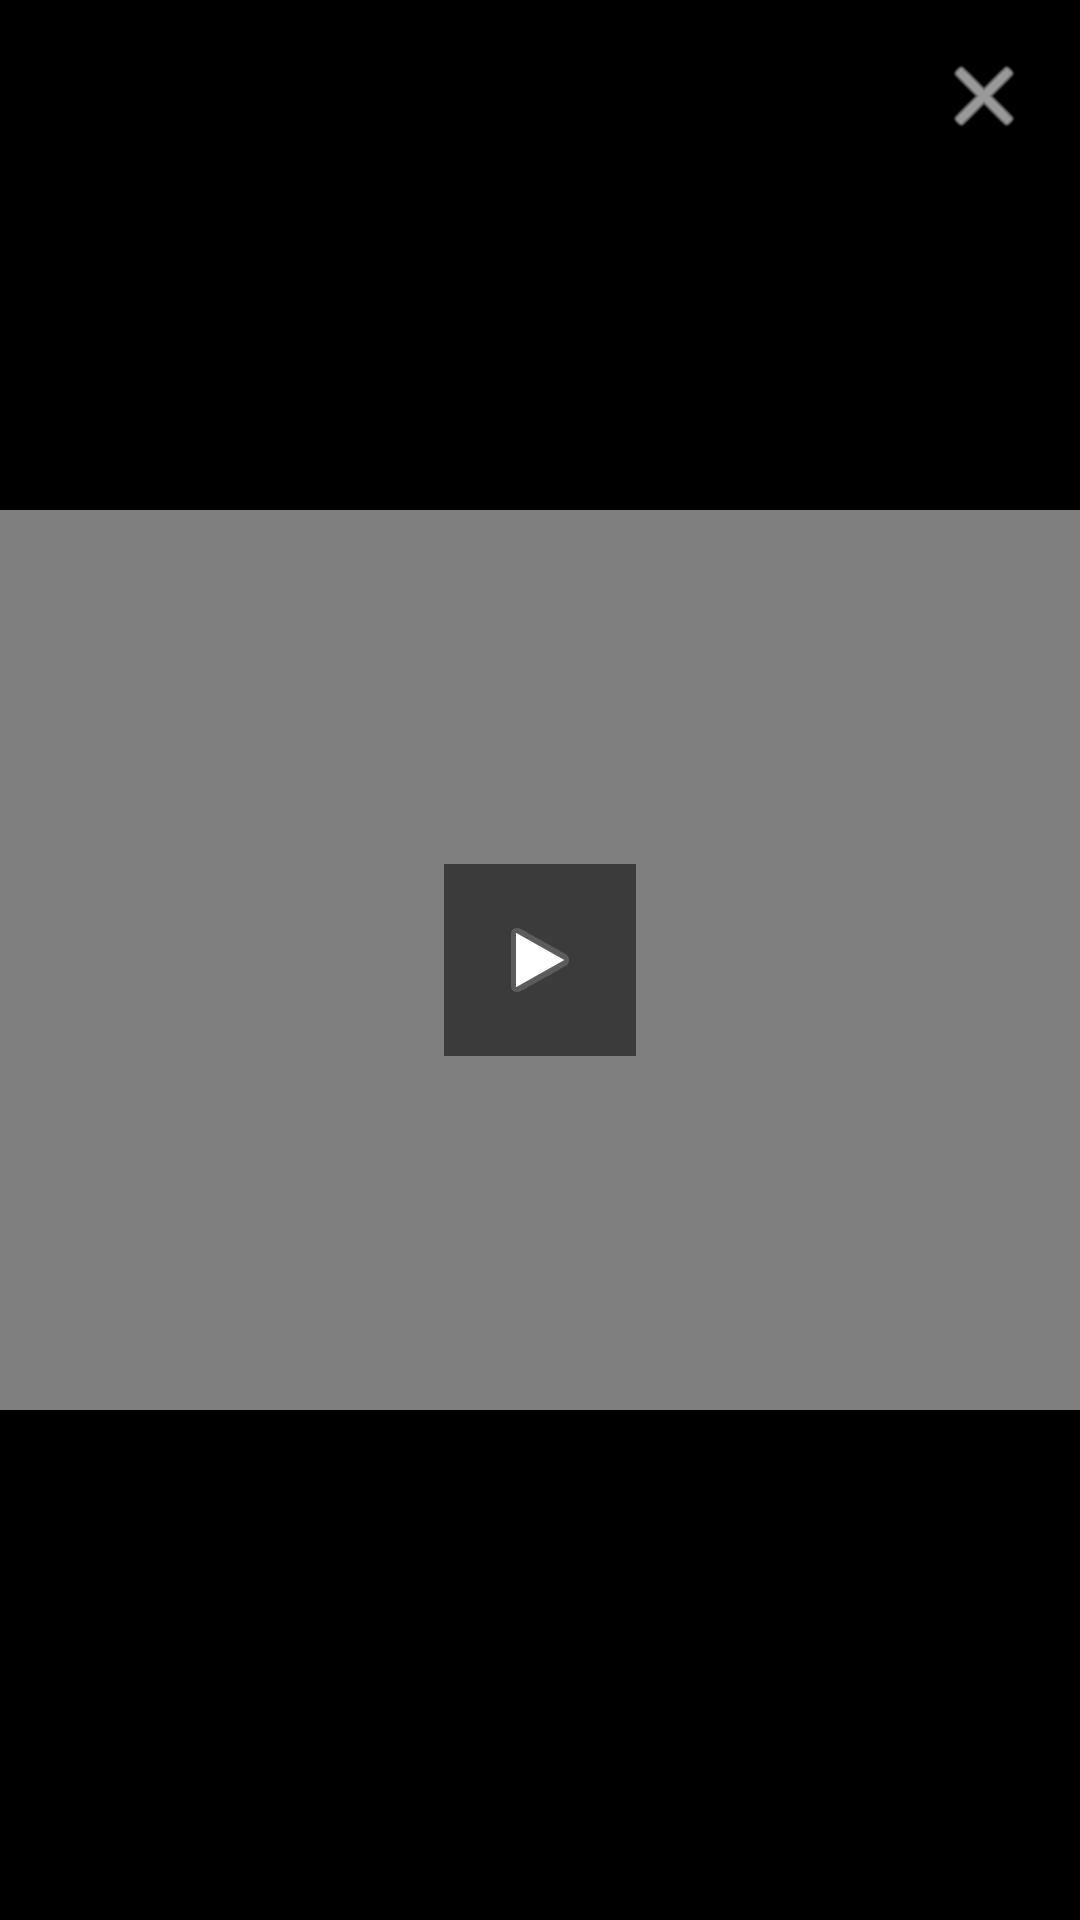

Icons on this 1080x1920 Android screen, each with the point to tap as (x=x, y=y):
close clear cancel: (x=984, y=96)
play: (x=540, y=960)
